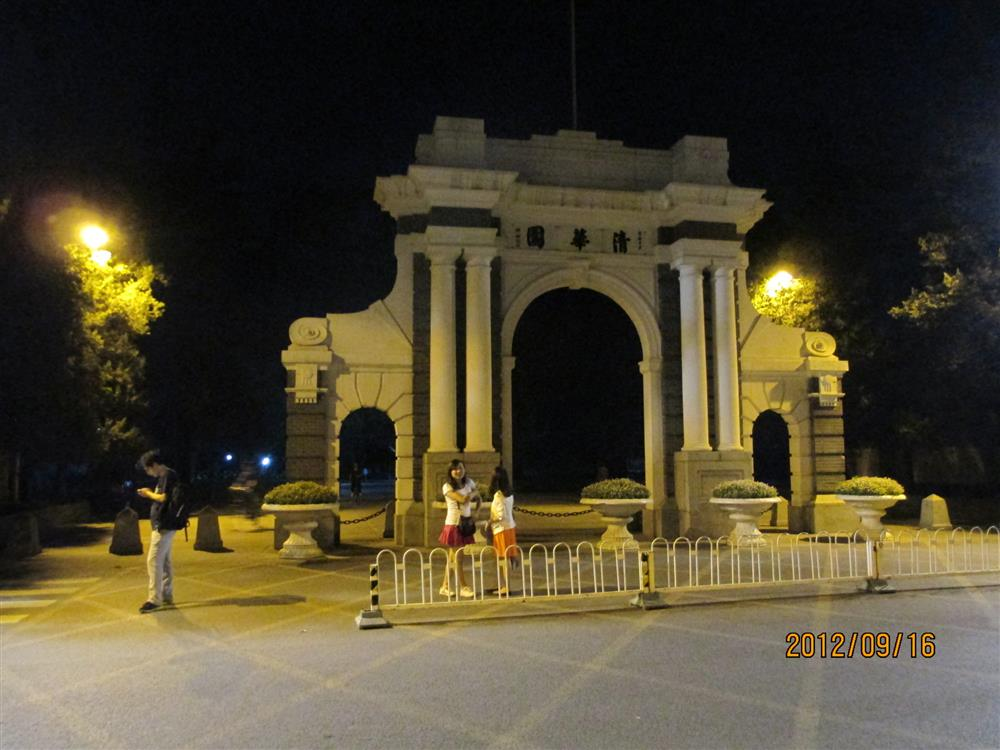Tsinghua_old_gate: (280, 113, 851, 542)
